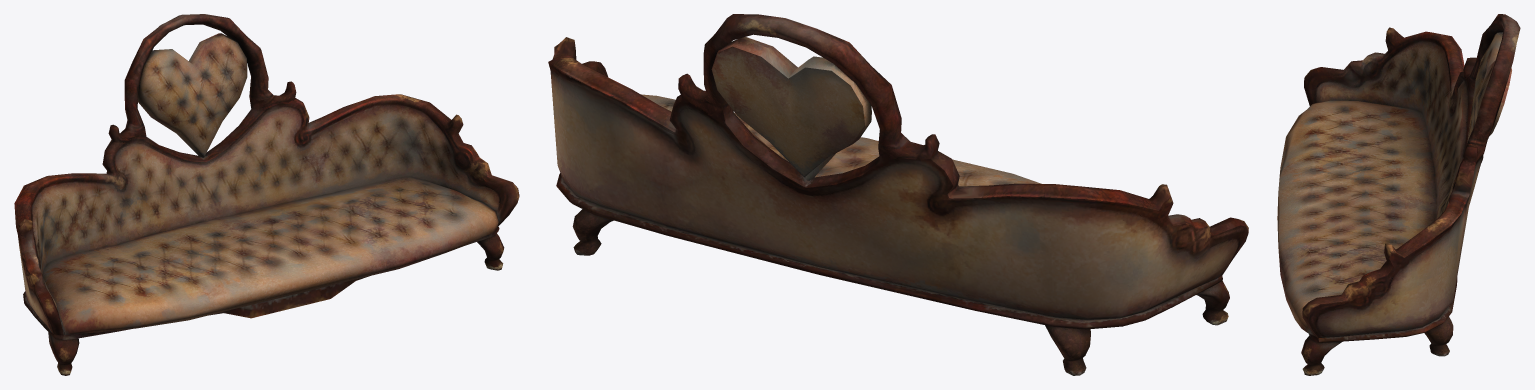
File: Queen Sofa B.obj
The picture shows the model from 3 angles, left to right: view 1: azimuth 30°, elevation 25°; view 2: azimuth 150°, elevation 25°; view 3: azimuth 270°, elevation 25°; orthographic projection. The views are drawn at different scales.
Parts seen in each view (by area): view 1: QSofaB; view 2: QSofaB; view 3: QSofaB.
Part boxes in pixels (left/top/right/bottom): QSofaB: left=14, top=14, right=519, bottom=375; QSofaB: left=548, top=14, right=1248, bottom=375; QSofaB: left=1277, top=14, right=1520, bottom=375.
Bounding box in the file's own units: 3.44 × 1.62 × 1.48.
Materials: 1 (1 with a texture image).
